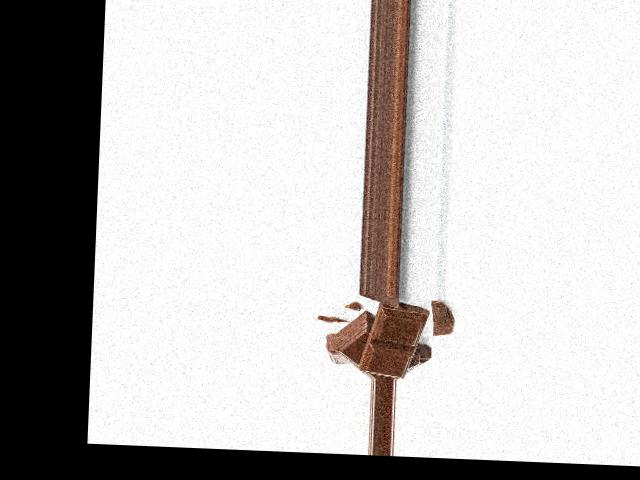chocolate: (357, 302, 426, 376)
